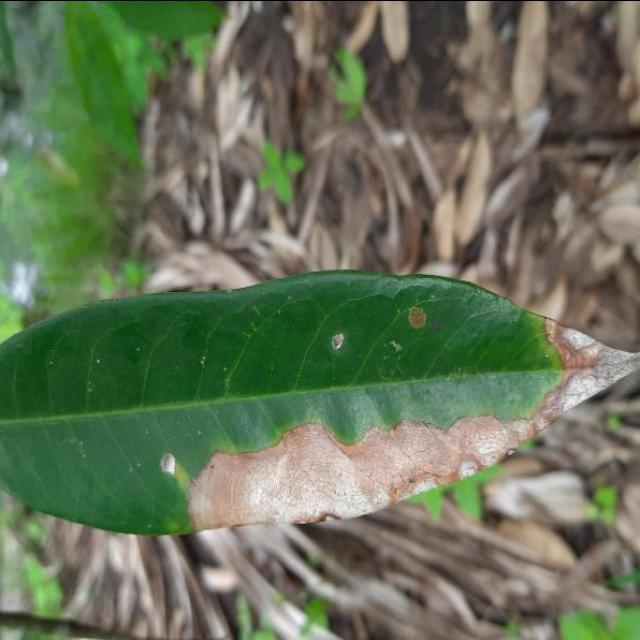Leaf Blight: (0, 250, 640, 546)
